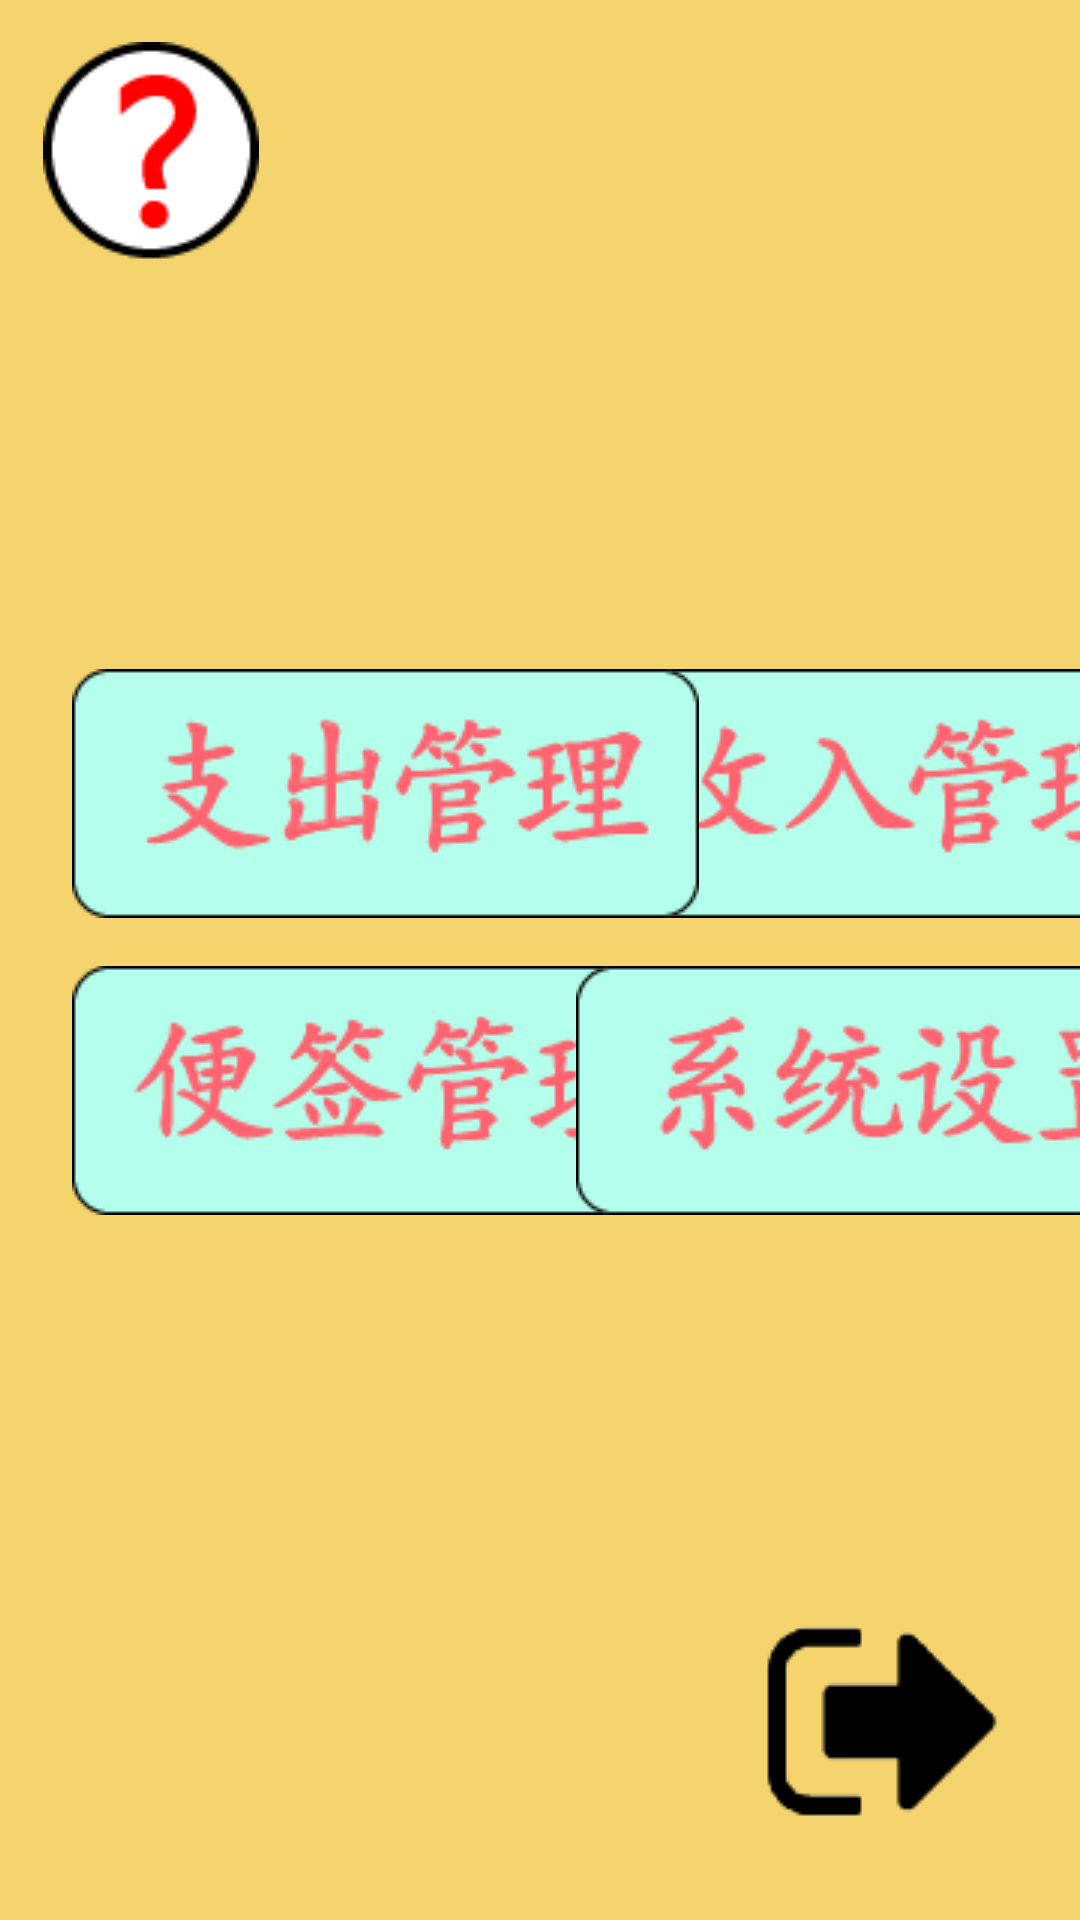

Icon bounding boxes for this 1080px x 1920px phone screenshot, format [x1=x1, y1=y1, x2=x2, y2=y2]:
help: [x1=43, y1=42, x2=259, y2=259]
quit: [x1=767, y1=1627, x2=997, y2=1816]
